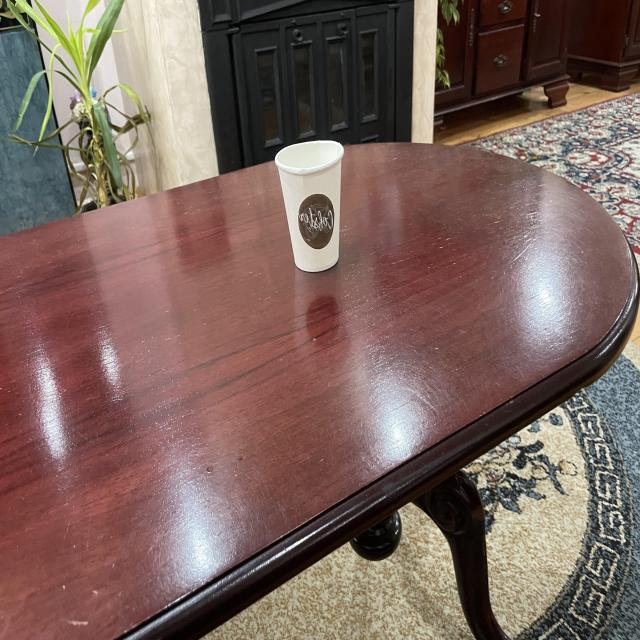medium: (272, 132, 349, 278)
